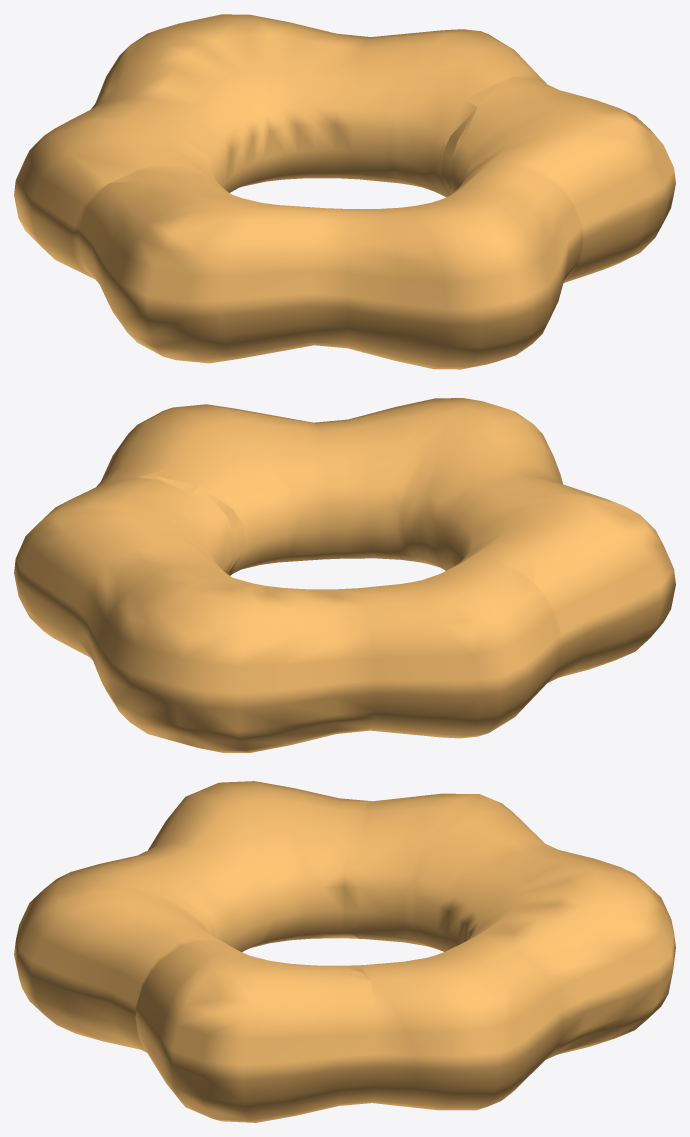
The model's file is SwimRing1-cut.FBX.
The picture shows the model from 3 angles, top to bottom: view 1: azimuth 30°, elevation 25°; view 2: azimuth 150°, elevation 25°; view 3: azimuth 270°, elevation 25°; orthographic projection. The views are drawn at different scales.
Parts seen in each view (by area): view 1: youyongquan:AM94_026_obj_0004_Part_3, youyongquan:AM94_026_obj_0004_Part_1, youyongquan:AM94_026_obj_0004_Part_2; view 2: youyongquan:AM94_026_obj_0004_Part_1, youyongquan:AM94_026_obj_0004_Part_3, youyongquan:AM94_026_obj_0004_Part_2; view 3: youyongquan:AM94_026_obj_0004_Part_1, youyongquan:AM94_026_obj_0004_Part_3, youyongquan:AM94_026_obj_0004_Part_2.
Part boxes in pixels (x1,y1,x2,y2): youyongquan:AM94_026_obj_0004_Part_3: (71, 161, 584, 369); youyongquan:AM94_026_obj_0004_Part_1: (14, 14, 537, 277); youyongquan:AM94_026_obj_0004_Part_2: (448, 71, 675, 283); youyongquan:AM94_026_obj_0004_Part_1: (14, 477, 559, 752); youyongquan:AM94_026_obj_0004_Part_3: (308, 398, 675, 682); youyongquan:AM94_026_obj_0004_Part_2: (96, 404, 309, 575); youyongquan:AM94_026_obj_0004_Part_1: (343, 793, 675, 1110); youyongquan:AM94_026_obj_0004_Part_3: (14, 781, 372, 1052); youyongquan:AM94_026_obj_0004_Part_2: (136, 941, 416, 1122).
Size of the model in its own units: 59.16 by 14.83 by 64.57.
